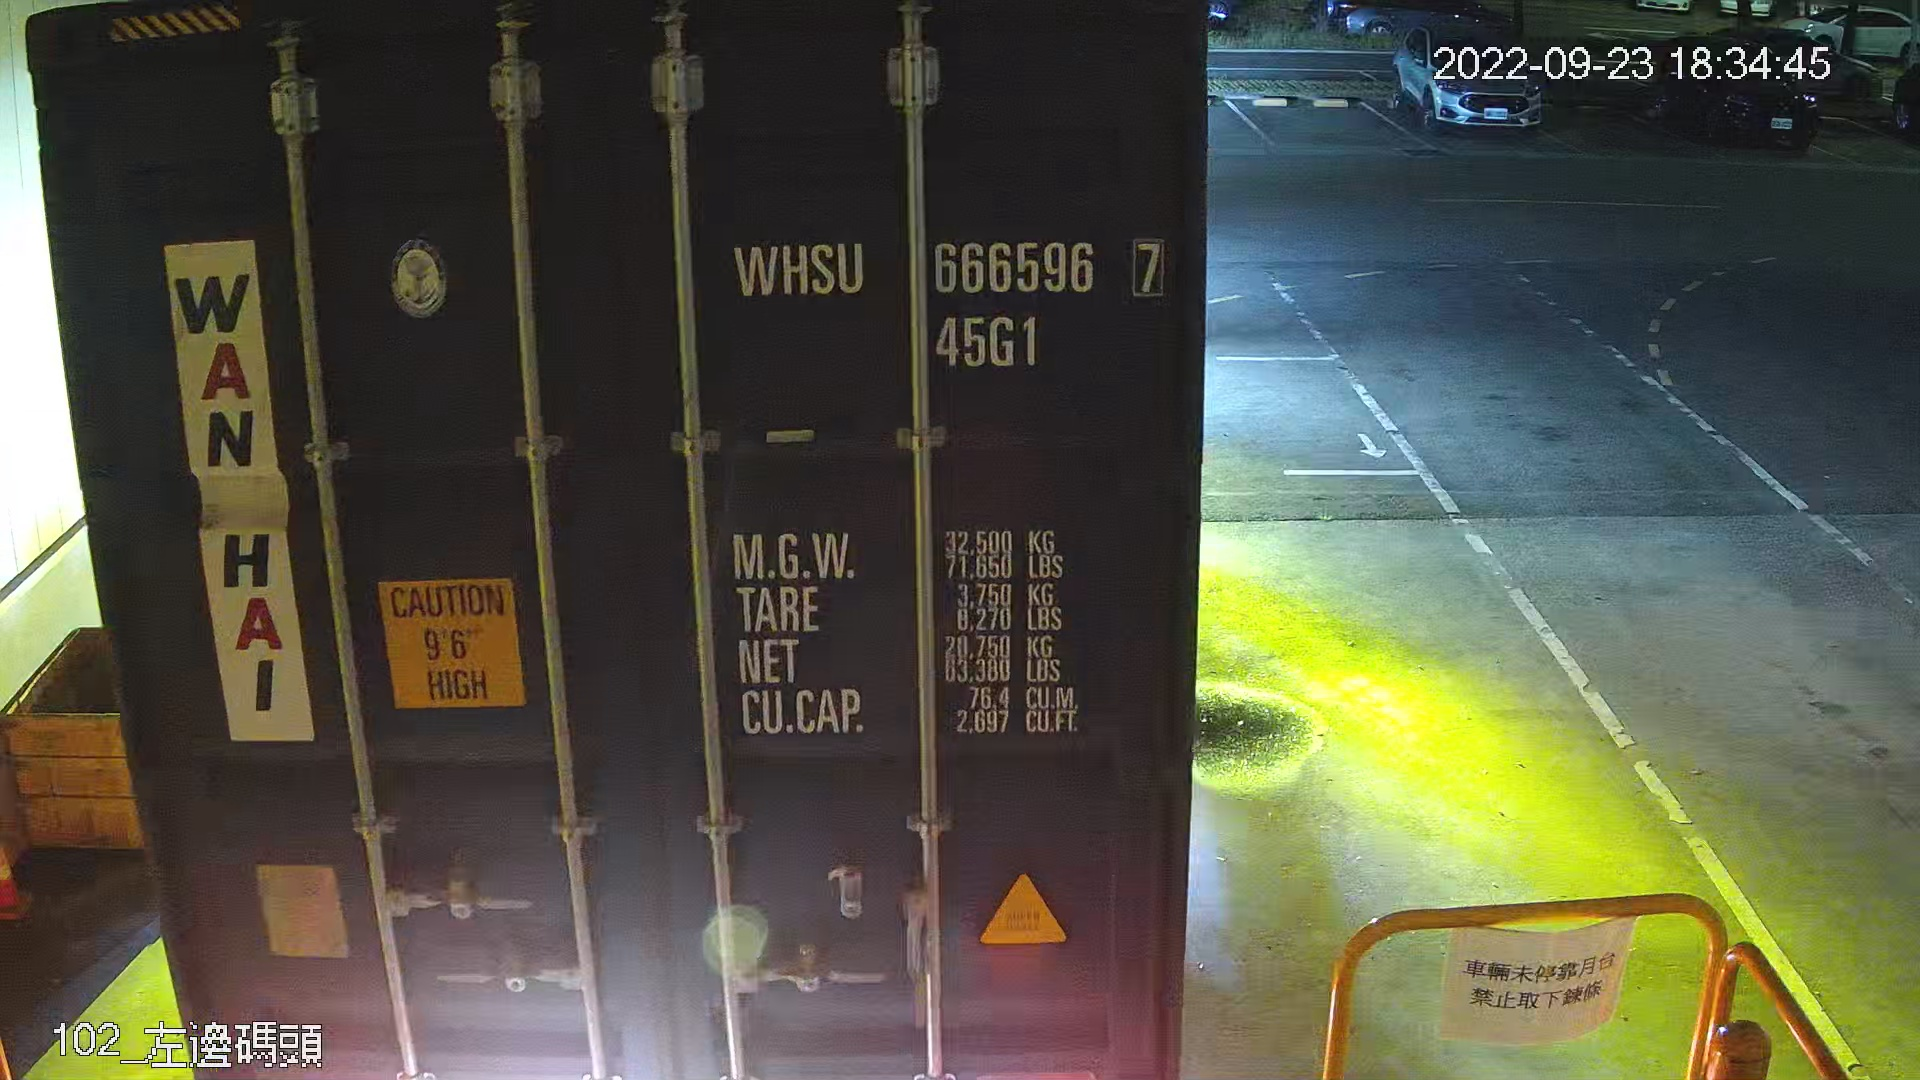container: (705, 202, 1182, 380)
